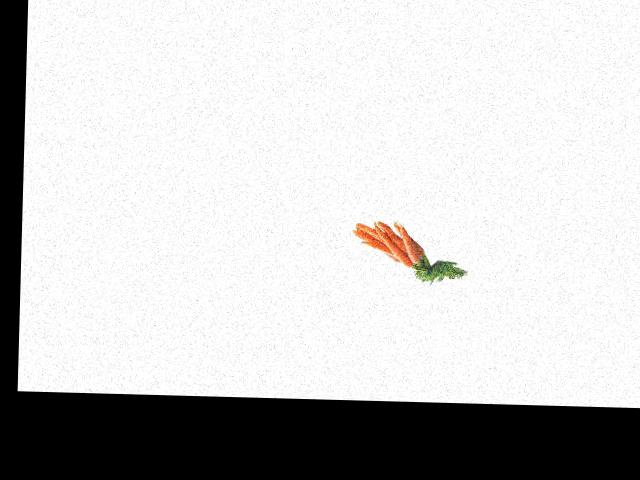carrot: (401, 210, 426, 260)
